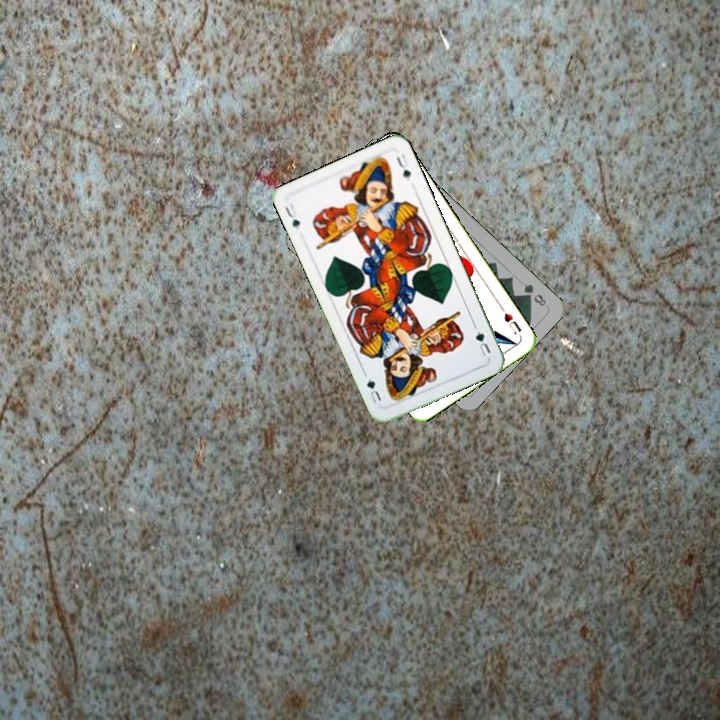G8: (520, 279, 549, 309)
GU: (471, 327, 494, 359), (281, 199, 303, 231)
HU: (497, 303, 524, 337)
